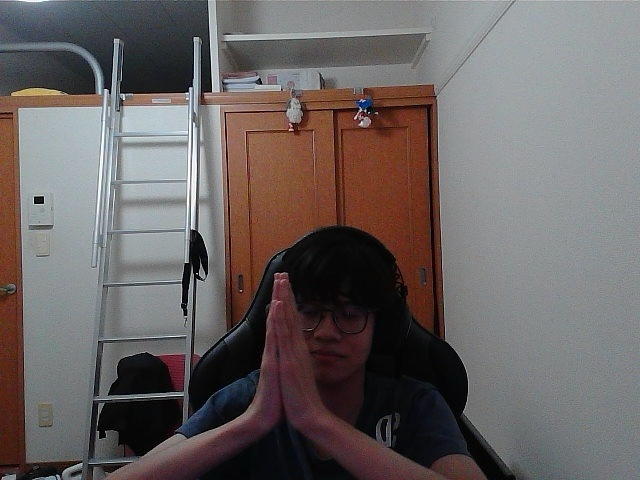pray: (278, 283, 313, 405)
